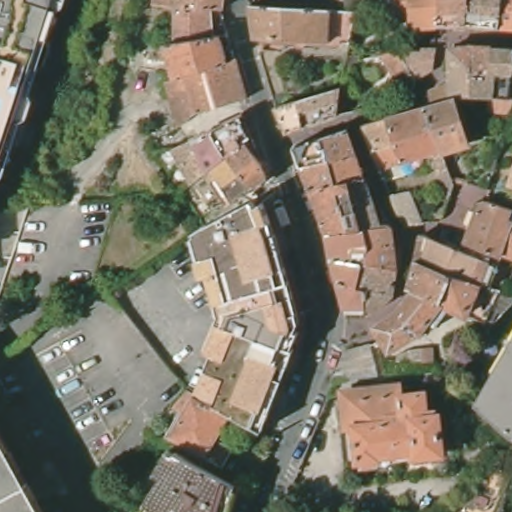pool: (395, 151, 425, 182)
